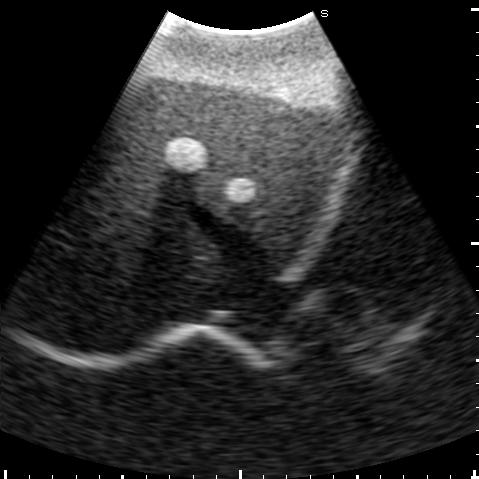S2: (263, 147, 329, 262)
S4: (124, 77, 293, 232)
S8: (102, 122, 222, 274)
Tumor: (165, 138, 207, 174), (224, 176, 257, 203)
